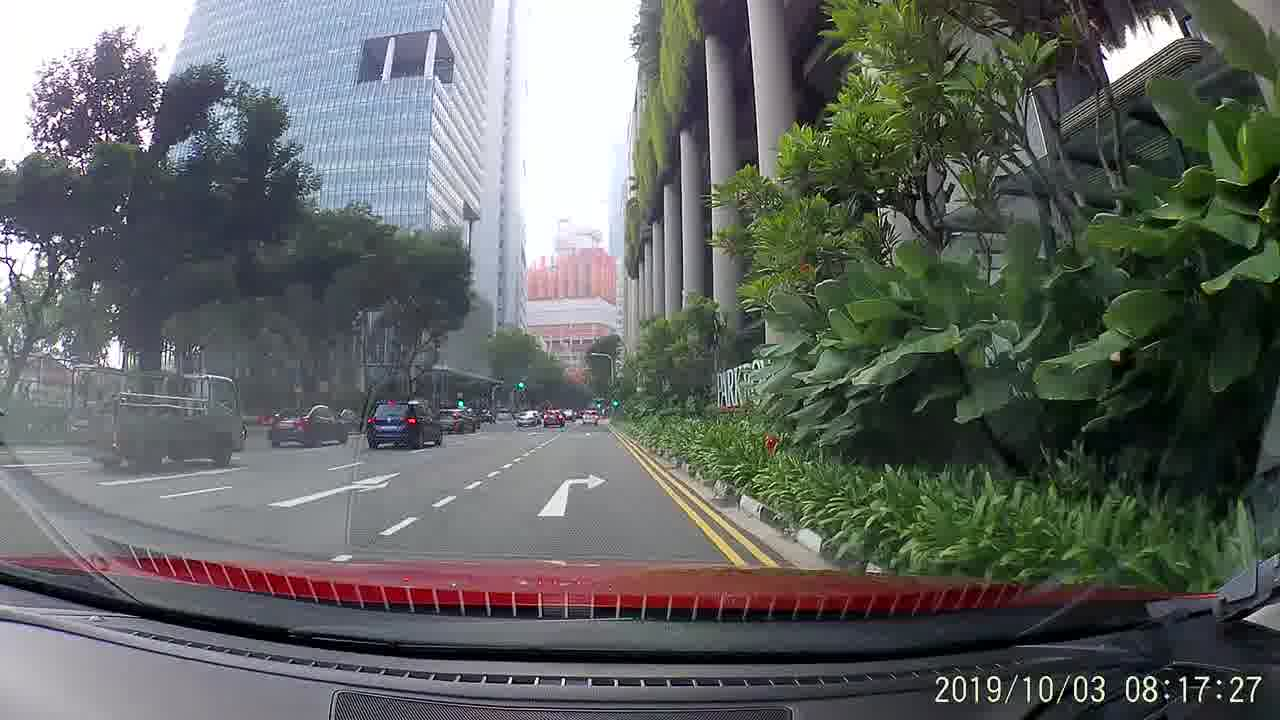car: (365, 398, 445, 450), (272, 402, 350, 447), (436, 407, 480, 434), (540, 406, 565, 431), (514, 410, 538, 429), (580, 410, 599, 427)
